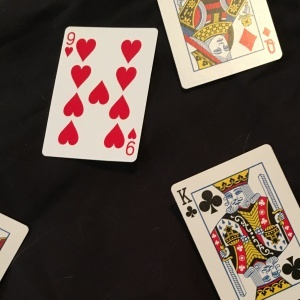card: (40, 23, 159, 165), (155, 1, 287, 93)
